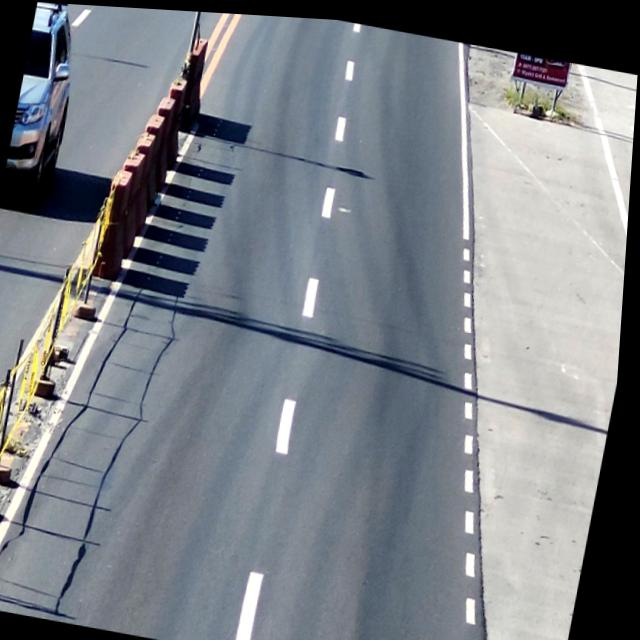Car: (1, 1, 93, 217)
